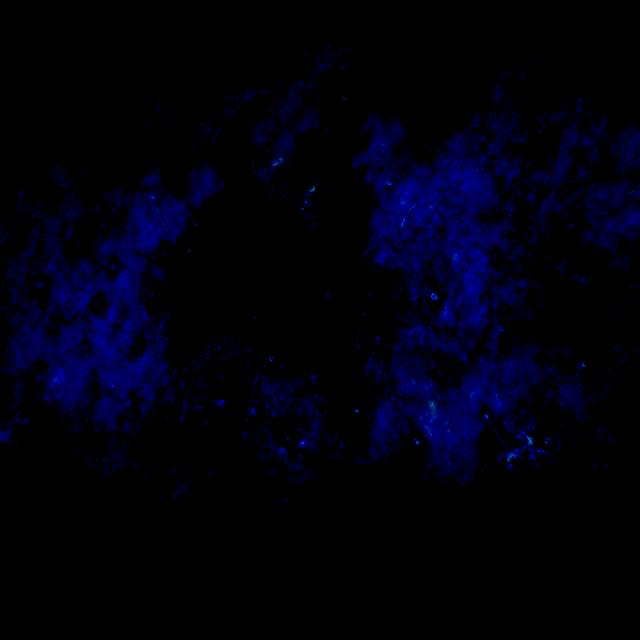BKL: (162, 138, 391, 510)
